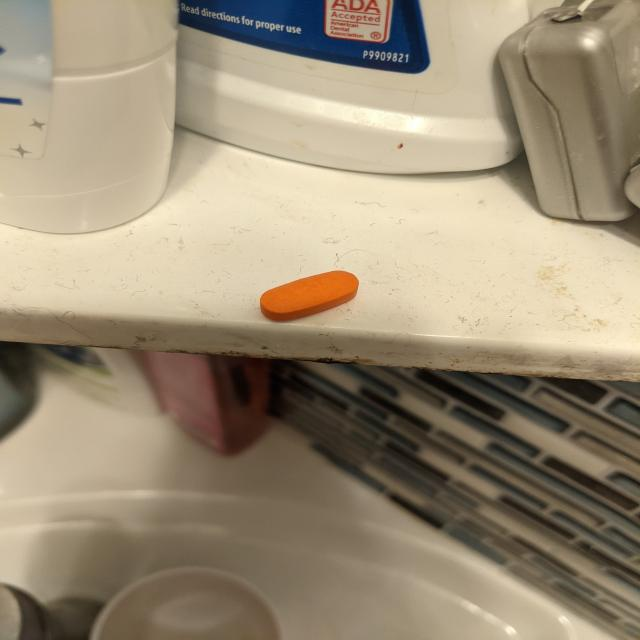non-organic waste: (259, 269, 360, 323)
